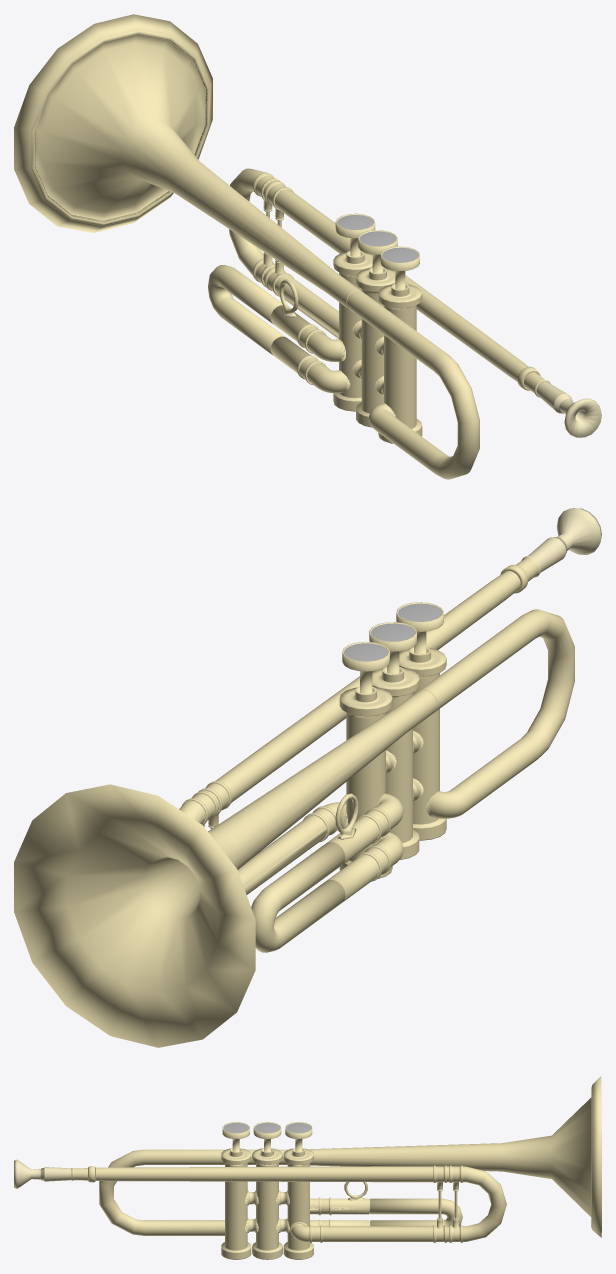
File: trabka.fbx
3 views of the same model, one above another, from view 1: azimuth 30°, elevation 25°; view 2: azimuth 150°, elevation 25°; view 3: azimuth 270°, elevation 25° (orthographic). The views are drawn at different scales.
Visible parts, largest first — view 1: Trompeta1; view 2: Trompeta1; view 3: Trompeta1.
Part boxes in pixels (box(x1,y1,x2,y2)): Trompeta1: box(14, 14, 601, 479); Trompeta1: box(14, 508, 601, 1047); Trompeta1: box(14, 1076, 601, 1259).
Size of the model in its own units: 802 by 885 by 2933.
